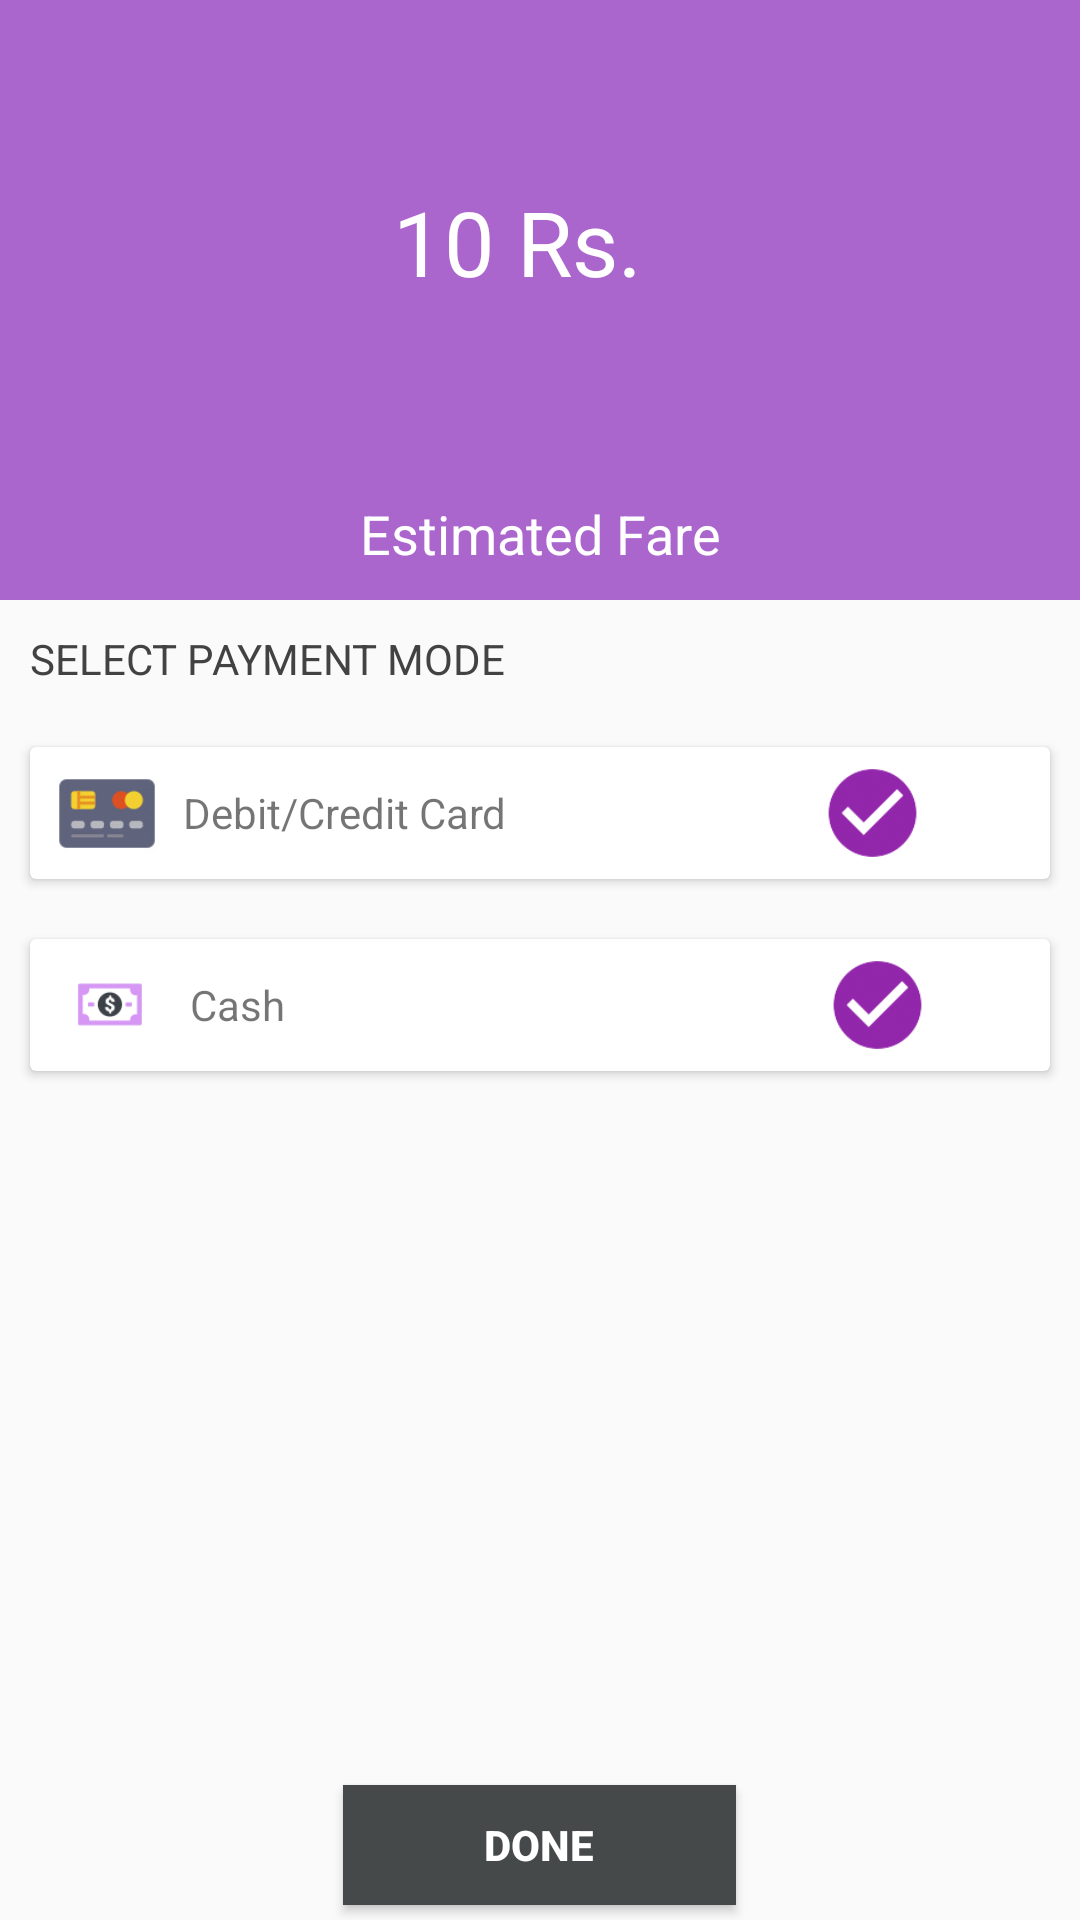

Icon bounding boxes for this 1080px x 1920px phone screenshot, format (left=x1, top=y1, right=x2, bottom=y2):
dolar: (left=78, top=983, right=142, bottom=1026)
